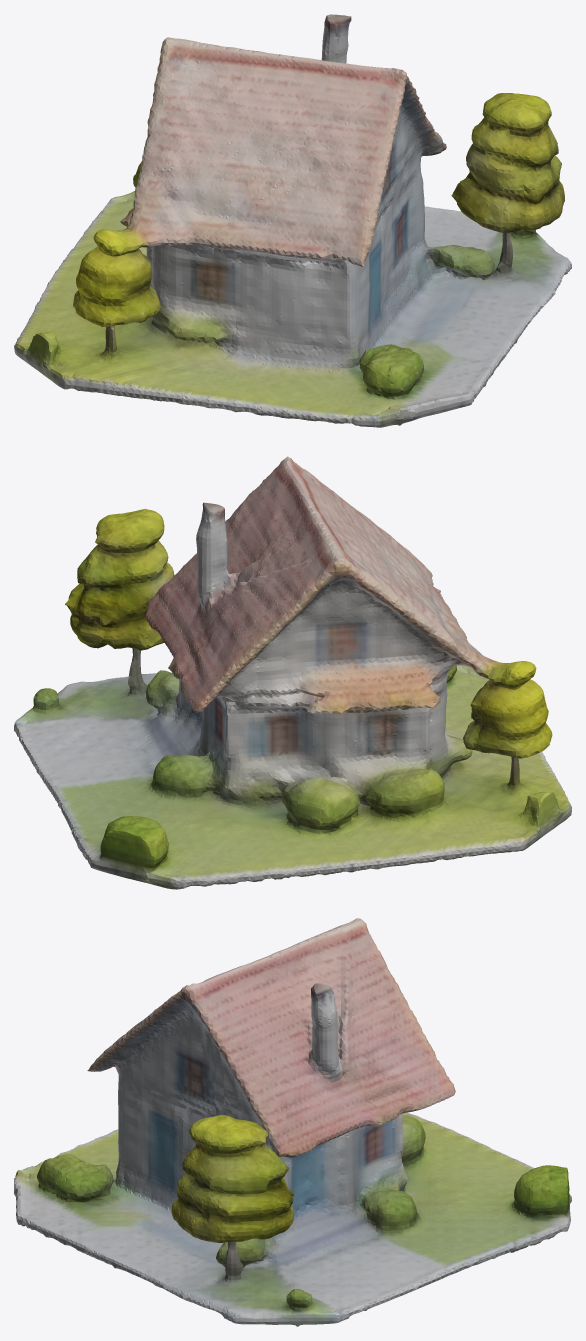
File: t5lyU50eEj40.png.glb
3 renders of one model, top to bottom at view 1: azimuth 30°, elevation 25°; view 2: azimuth 150°, elevation 25°; view 3: azimuth 270°, elevation 25°, orthographic. The views are drawn at different scales.
Visible parts, largest first — view 1: world; view 2: world; view 3: world.
Part boxes in pixels (<box>): world: <box>14,14,571,427</box>; world: <box>14,456,571,889</box>; world: <box>14,918,571,1326</box>.
Size of the model in its own units: 2 by 1.03 by 2.
